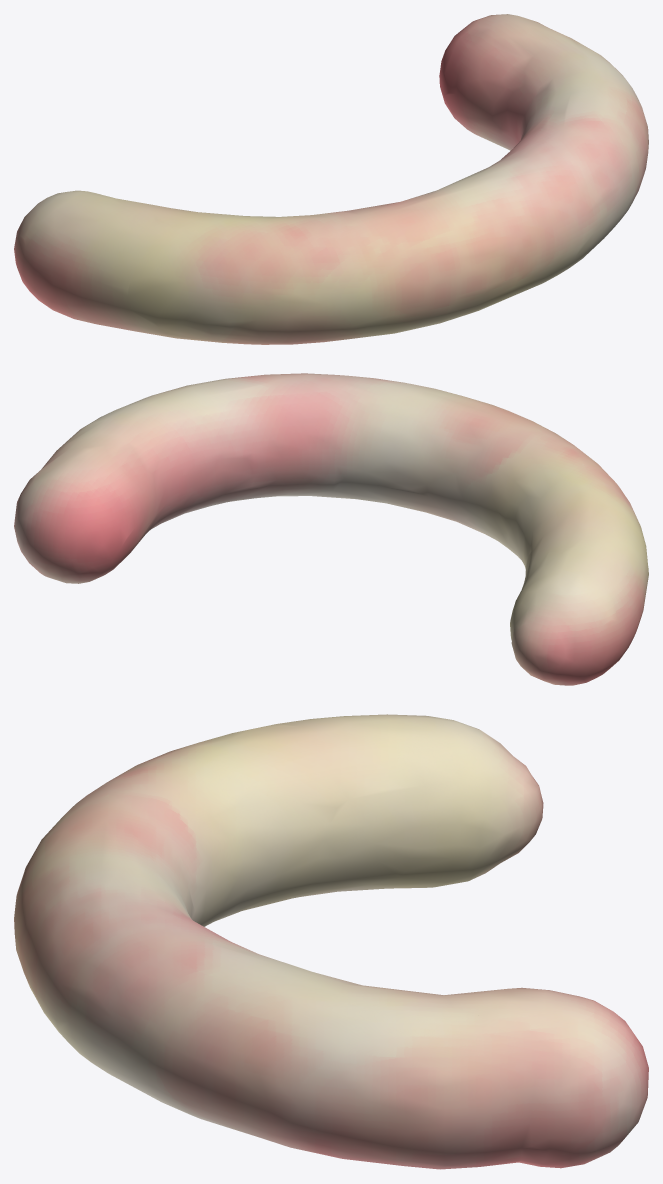
The model's file is peacho.obj.
3 renders of one model, top to bottom at view 1: azimuth 30°, elevation 25°; view 2: azimuth 150°, elevation 25°; view 3: azimuth 270°, elevation 25°, orthographic. The views are drawn at different scales.
Parts seen in each view (by area): view 1: Layer_1; view 2: Layer_1; view 3: Layer_1.
Boxes of the visible parts, x1=… form: Layer_1: x1=14, y1=14, x2=648, y2=344; Layer_1: x1=14, y1=373, x2=648, y2=685; Layer_1: x1=14, y1=714, x2=648, y2=1169.
Bounding box in the file's own units: 87.46 × 21.31 × 59.75.
1 material, 1 textured.
